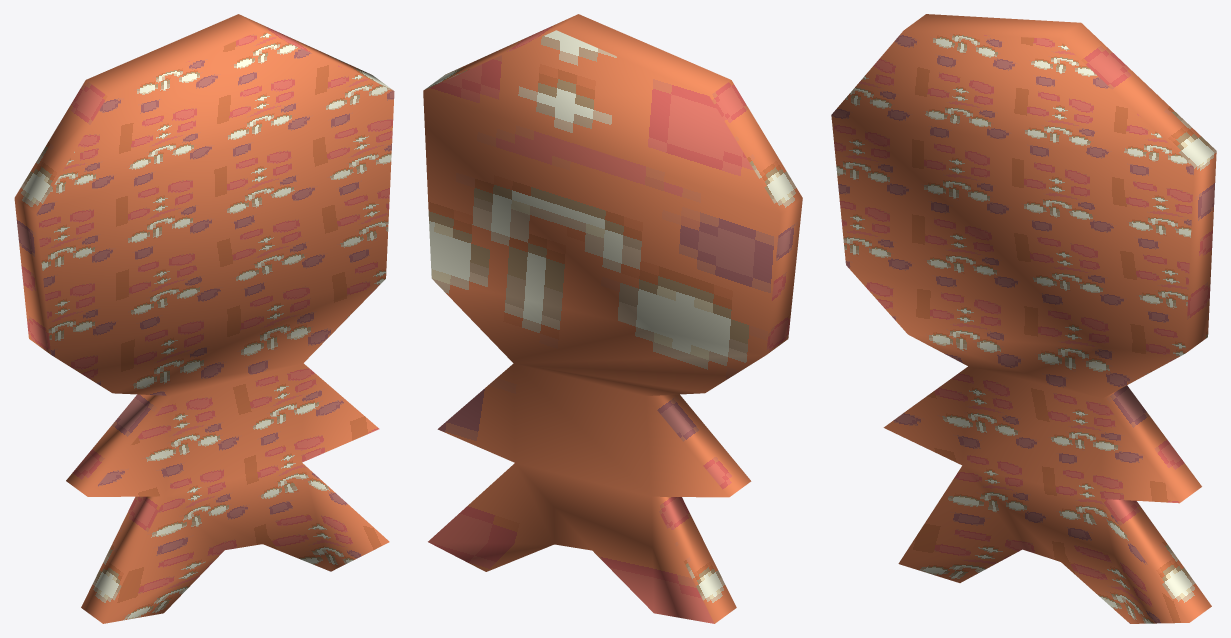
File: 5059musi69_e.gltf
3 renders of one model, left to right at view 1: azimuth 30°, elevation 25°; view 2: azimuth 150°, elevation 25°; view 3: azimuth 330°, elevation 25°, orthographic.
Visible parts, largest first — view 1: 5059musi69_e; view 2: 5059musi69_e; view 3: 5059musi69_e.
Boxes of the visible parts, box(x1,y1,x2,y2) form: 5059musi69_e: box(14, 14, 394, 623); 5059musi69_e: box(423, 14, 802, 623); 5059musi69_e: box(831, 14, 1216, 623).
Bounding box in the file's own units: 0.1753 × 0.262 × 0.019.
1 material, 1 textured.
